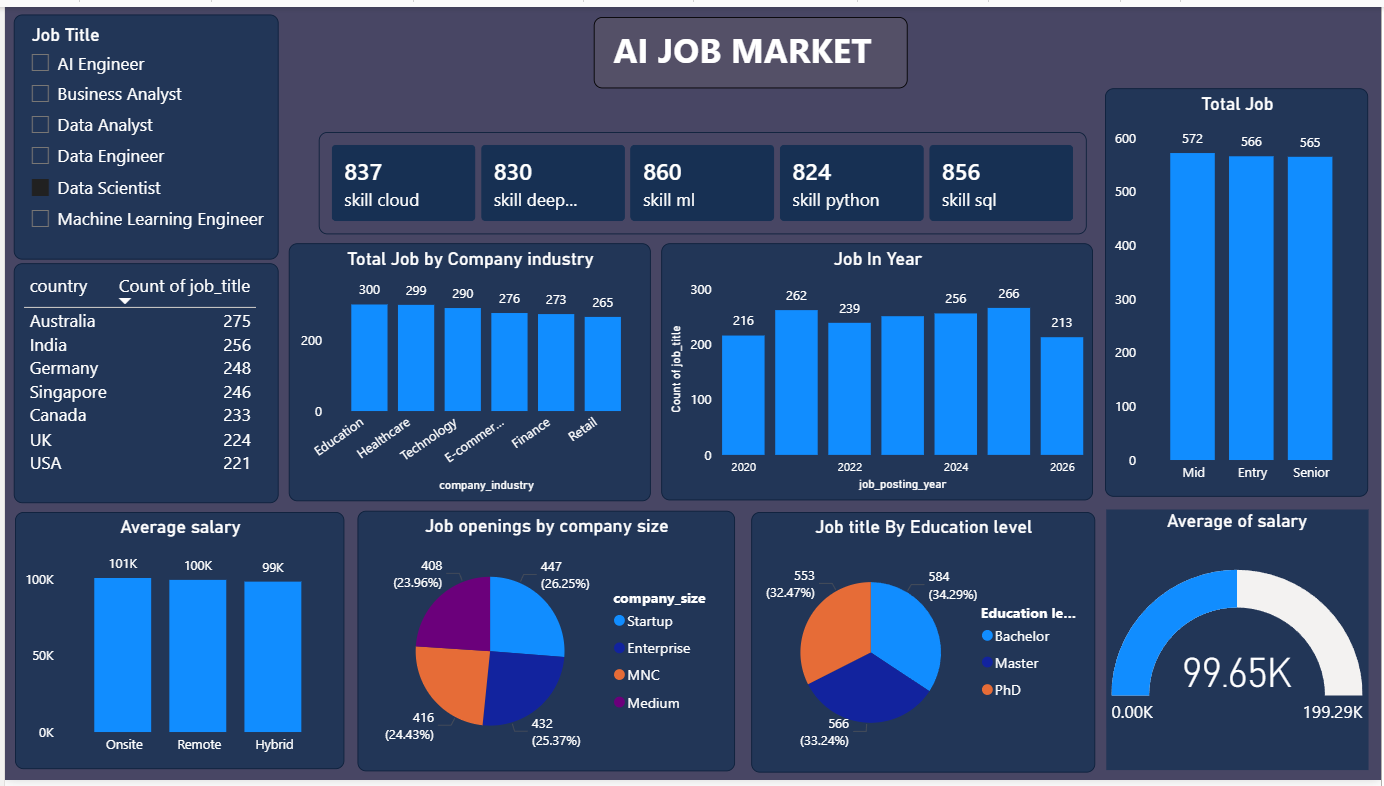

The dashboard page shown, as its layout file describes it:
{"tool":"powerbi","page":{"name":"Page 1","canvas":[1280,720],"ordinal":0},"visuals":[{"type":"slicer","fields":{"Values":["AI Job Market Dataset.job_title"]},"box":[8.4,7.2,246.1,228],"z":0},{"type":"gauge","fields":{"Y":["Avg(AI Job Market Dataset.salary)"]},"box":[1024.3,466.9,243.7,242.5],"z":1000},{"type":"columnChart","title":"Job In Year","fields":{"Category":["AI Job Market Dataset.job_posting_year"],"Y":["CountNonNull(AI Job Market Dataset.job_title)"]},"box":[610.5,219.6,401.7,238.9],"z":2000},{"type":"tableEx","title":"Job Title by Country","fields":{"Values":["AI Job Market Dataset.country","CountNonNull(AI Job Market Dataset.job_title)"]},"box":[8.4,238.9,246.1,223.2],"z":3000},{"type":"columnChart","title":"Total Job by Company industry","fields":{"Category":["AI Job Market Dataset.company_industry"],"Y":["CountNonNull(AI Job Market Dataset.job_title)"]},"box":[264.2,219.6,336.6,240.1],"z":4000},{"type":"columnChart","title":"Total Job","fields":{"Category":["AI Job Market Dataset.experience_level"],"Y":["CountNonNull(AI Job Market Dataset.job_title)"]},"box":[1023.1,76,244.9,380],"z":5000},{"type":"pieChart","title":"Job title By Education level","fields":{"Y":["CountNonNull(AI Job Market Dataset.job_title)"],"Category":["AI Job Market Dataset.education_level"]},"box":[693.7,469.3,319.7,242.5],"z":6000},{"type":"pieChart","title":"Job openings by company size","fields":{"Y":["CountNonNull(AI Job Market Dataset.job_openings)"],"Category":["AI Job Market Dataset.company_size"]},"box":[328.2,468.1,351.1,242.5],"z":7000},{"type":"columnChart","title":"Average salary ","fields":{"Y":["Avg(AI Job Market Dataset.salary)"],"Category":["AI Job Market Dataset.remote_type"]},"box":[9.7,469.3,306.4,238.9],"z":8000},{"type":"cardVisual","fields":{"Data":["AI Job Market Dataset.count cloud skill","AI Job Market Dataset.skill deep learning","AI Job Market Dataset.skill ml","AI Job Market Dataset.skill python","AI Job Market Dataset.skill sql"]},"box":[292,115.8,714.2,95.3],"z":9000},{"type":"textbox","box":[547.7,9.3,291.9,66.3],"z":10000}]}

Visuals, with their boxes in screenshot pixels (x1, y1, x2, y2), scaled from the page's 1280x720 canvas onto the 1384x786 screenshot:
slicer - AI Job Market Dataset.job_title: <region>9, 8, 275, 257</region>
gauge - Avg(AI Job Market Dataset.salary): <region>1108, 510, 1371, 774</region>
"Job In Year" columnChart: <region>660, 240, 1094, 501</region>
"Job Title by Country" tableEx: <region>9, 261, 275, 504</region>
"Total Job by Company industry" columnChart: <region>286, 240, 650, 502</region>
"Total Job" columnChart: <region>1106, 83, 1371, 498</region>
"Job title By Education level" pieChart: <region>750, 512, 1096, 777</region>
"Job openings by company size" pieChart: <region>355, 511, 734, 776</region>
"Average salary " columnChart: <region>10, 512, 342, 773</region>
cardVisual - AI Job Market Dataset.count cloud skill x AI Job Market Dataset.skill deep learning: <region>316, 126, 1088, 230</region>
textbox: <region>592, 10, 908, 83</region>
